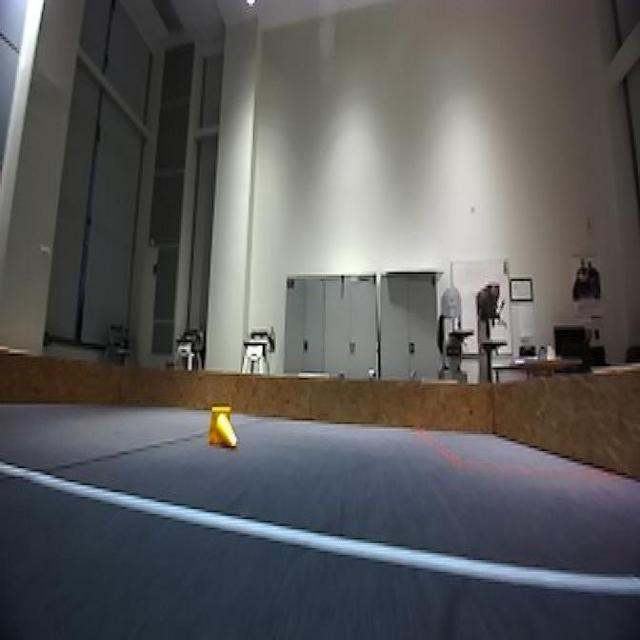frc_cone: (205, 400, 239, 456)
